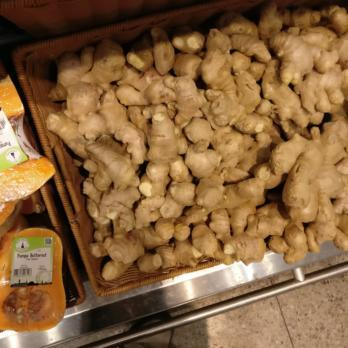Ginger: (213, 7, 348, 253), (87, 27, 213, 282)
